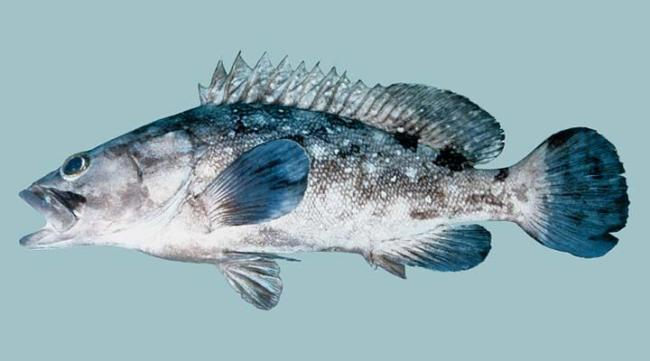fish: (19, 51, 631, 310)
